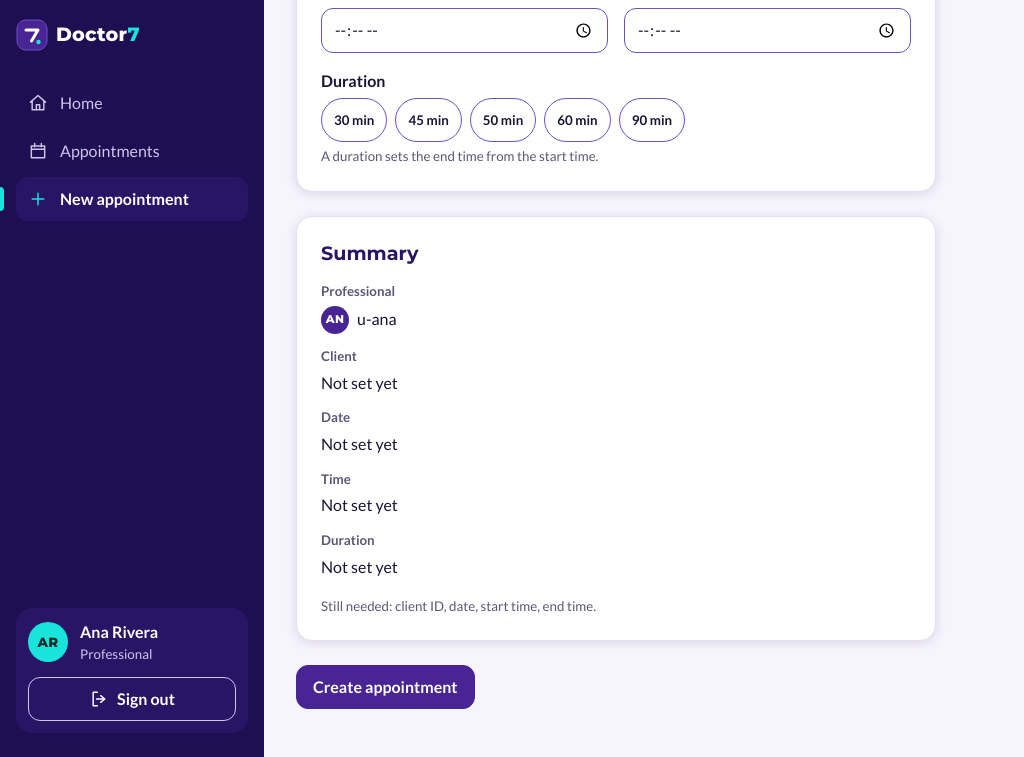
it: New appointment › names each missing field and how to fix it
This screenshot has width=1024, height=757.
(page scrolled)
Click the button "Create appointment".
click(385, 687)  # box x1=296 y1=665 x2=474 y2=709
(page scrolled)
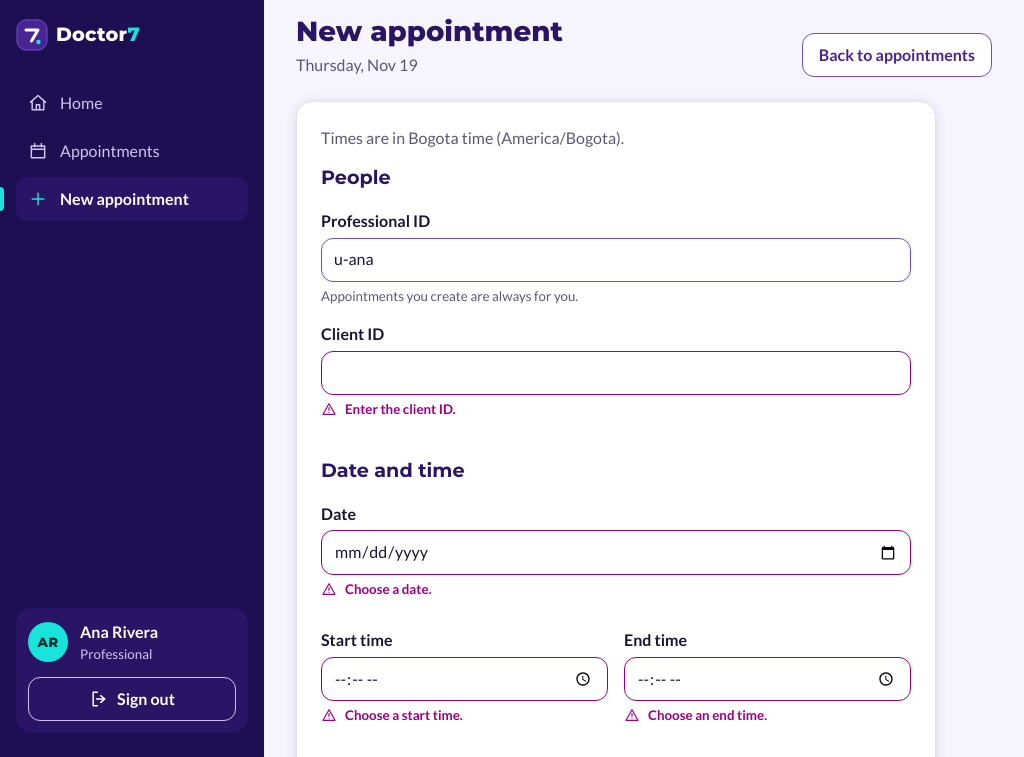
Now the text "Enter the client ID." is shown, box x1=321 y1=401 x2=456 y2=417
Now the text "Choose a date." is shown, box x1=321 y1=581 x2=432 y2=597
